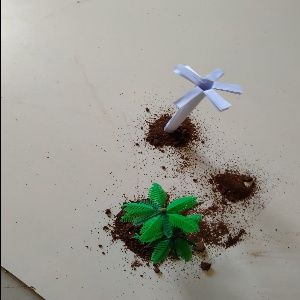plant: (122, 184, 201, 260)
weed: (159, 58, 240, 132)
